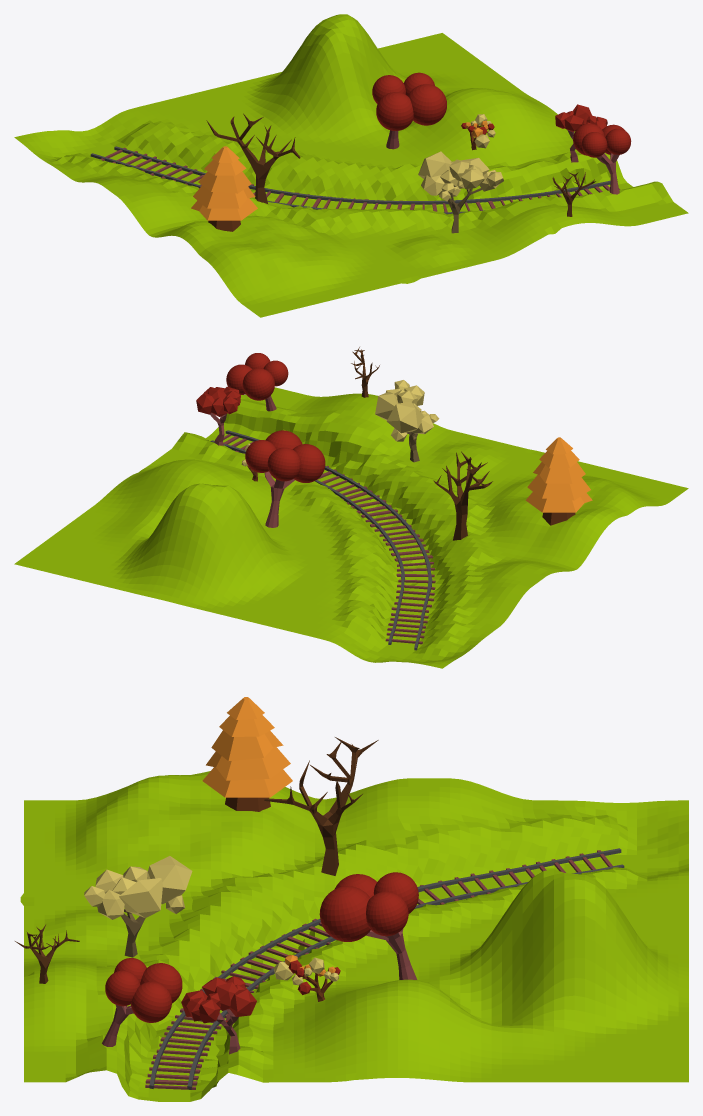
Rendered from environment-transformed.glb.
3 views of the same model, one above another, from view 1: azimuth 30°, elevation 25°; view 2: azimuth 150°, elevation 25°; view 3: azimuth 270°, elevation 25° (orthographic). The views are drawn at different scales.
Parts seen in each view (by area): view 1: Ground, Rail, TREE 2, TREE 3, TREE 4, TREE 2.001, Leafless tree, TREE 1, TREE 5; view 2: Ground, Rail, TREE 2, TREE 3, TREE 4, TREE 2.001, Leafless tree, TREE 1; view 3: Ground, Rail, TREE 3, TREE 2, TREE 4, TREE 2.001, Leafless tree, TREE 1, TREE 5, Leafless tree.001.
Part boxes in pixels (x1,y1,x2,y2): Ground: (14,14,688,317); Rail: (90,146,620,214); TREE 2: (372,72,446,149); TREE 3: (191,146,257,231); TREE 4: (418,151,503,233); TREE 2.001: (573,123,631,194); Leafless tree: (206,113,300,203); TREE 1: (555,104,607,162); TREE 5: (461,114,495,150); Ground: (14,387,688,668); Rail: (210,430,435,650); TREE 2: (245,430,325,527); TREE 3: (525,437,592,525); TREE 4: (375,380,439,462); TREE 2.001: (226,353,288,411); Leafless tree: (433,451,492,540); TREE 1: (196,386,240,445); Ground: (20,771,688,1101); Rail: (145,848,624,1089); TREE 3: (202,697,292,811); TREE 2: (319,872,418,979); TREE 4: (84,856,192,957); TREE 2.001: (102,958,182,1046); Leafless tree: (264,737,378,875); TREE 1: (181,976,256,1054); TREE 5: (273,954,340,1001); Leafless tree.001: (15,924,79,983).
Size of the model in its own units: 370 by 97.74 by 374.
